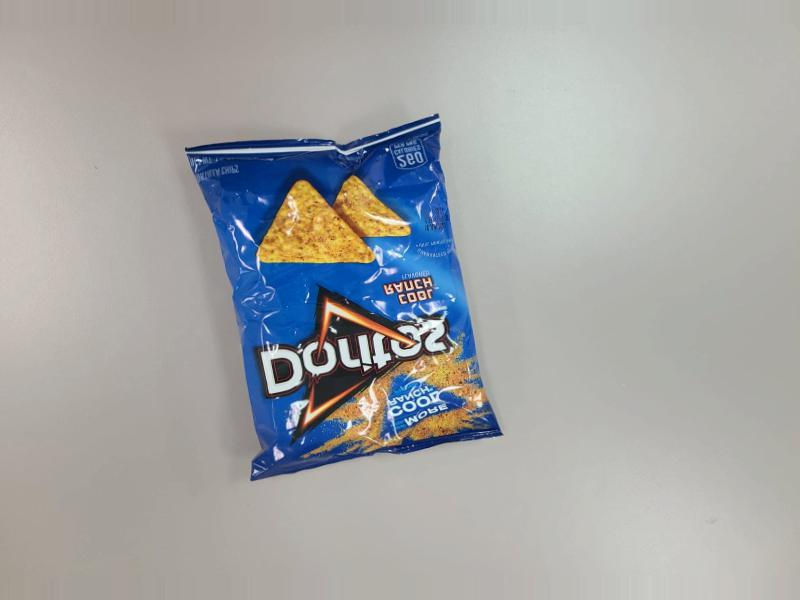doritos: (203, 97, 502, 508)
